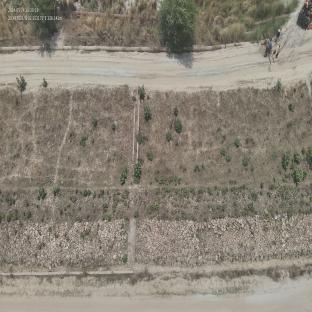rock_toe: (0, 219, 126, 266), (195, 214, 312, 261), (138, 220, 197, 263)
slope_drain: (127, 89, 140, 261)
toe_drain: (1, 255, 312, 276)
